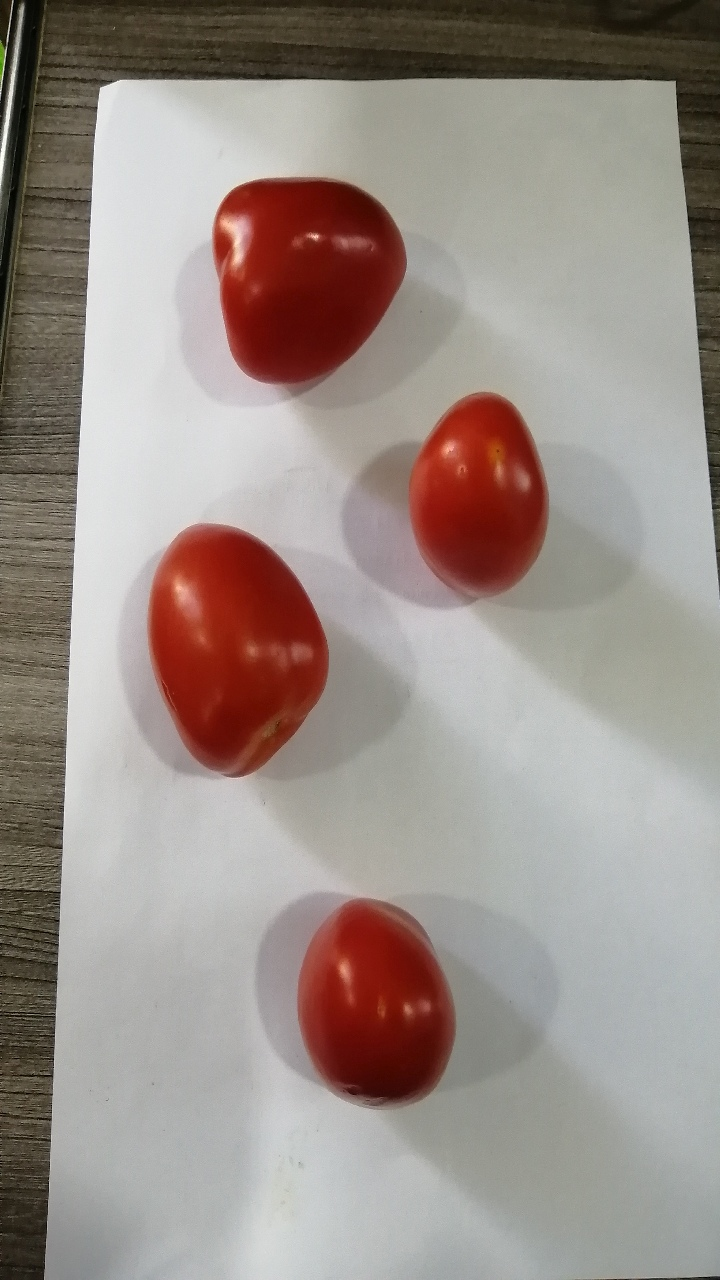tomateRojo: (126, 506, 357, 800), (183, 151, 426, 420), (274, 888, 486, 1131), (384, 379, 575, 626)
